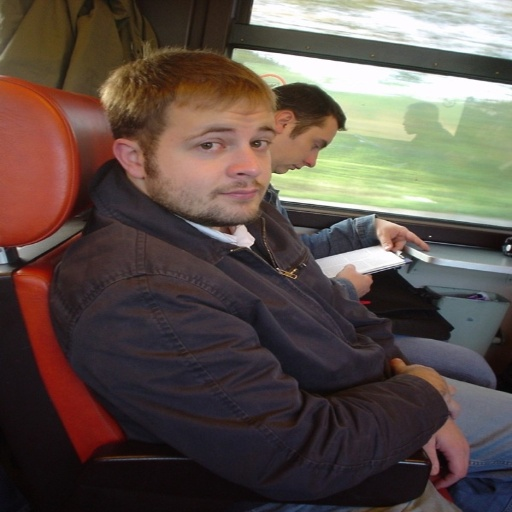hand: (393, 356, 462, 420), (419, 415, 471, 492), (368, 214, 433, 259), (334, 261, 372, 300)
